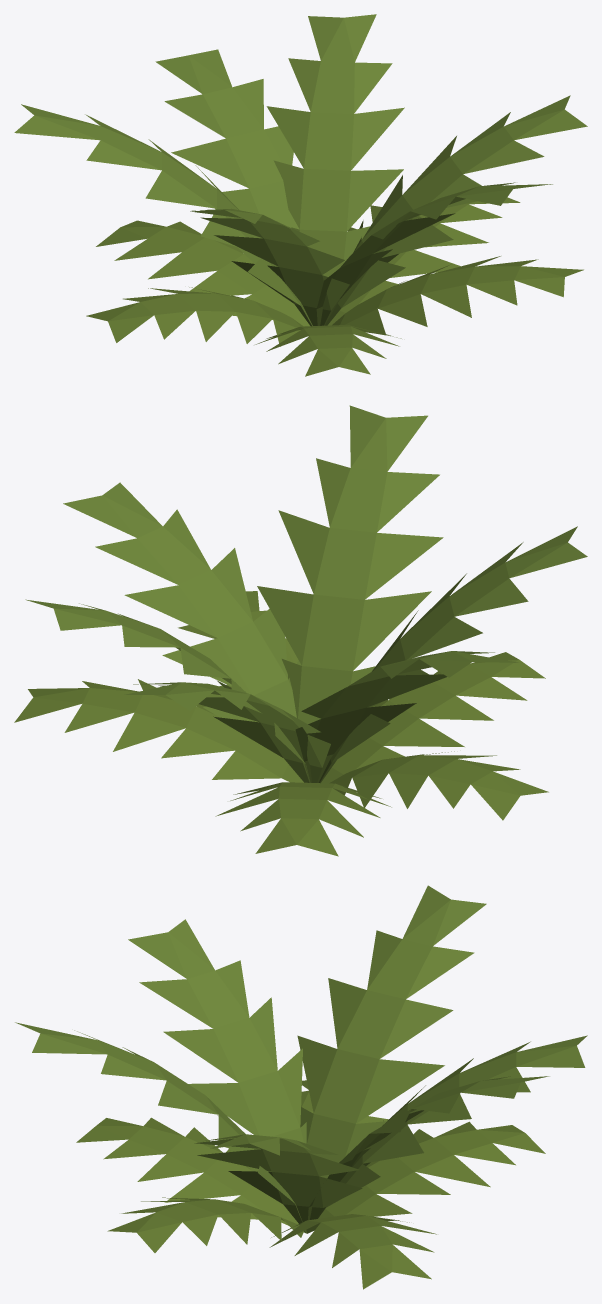
The model's file is sm_env_forest_fern.glb.
3 views of the same model, one above another, from view 1: azimuth 30°, elevation 25°; view 2: azimuth 150°, elevation 25°; view 3: azimuth 270°, elevation 25° (orthographic). The views are drawn at different scales.
Visible parts, largest first — view 1: Fern; view 2: Fern; view 3: Fern.
Part boxes in pixels (x1,y1,x2,y2): Fern: [14, 14, 587, 376]; Fern: [14, 405, 587, 856]; Fern: [15, 885, 587, 1289].
Size of the model in its own units: 1.2 by 0.54 by 1.21.
